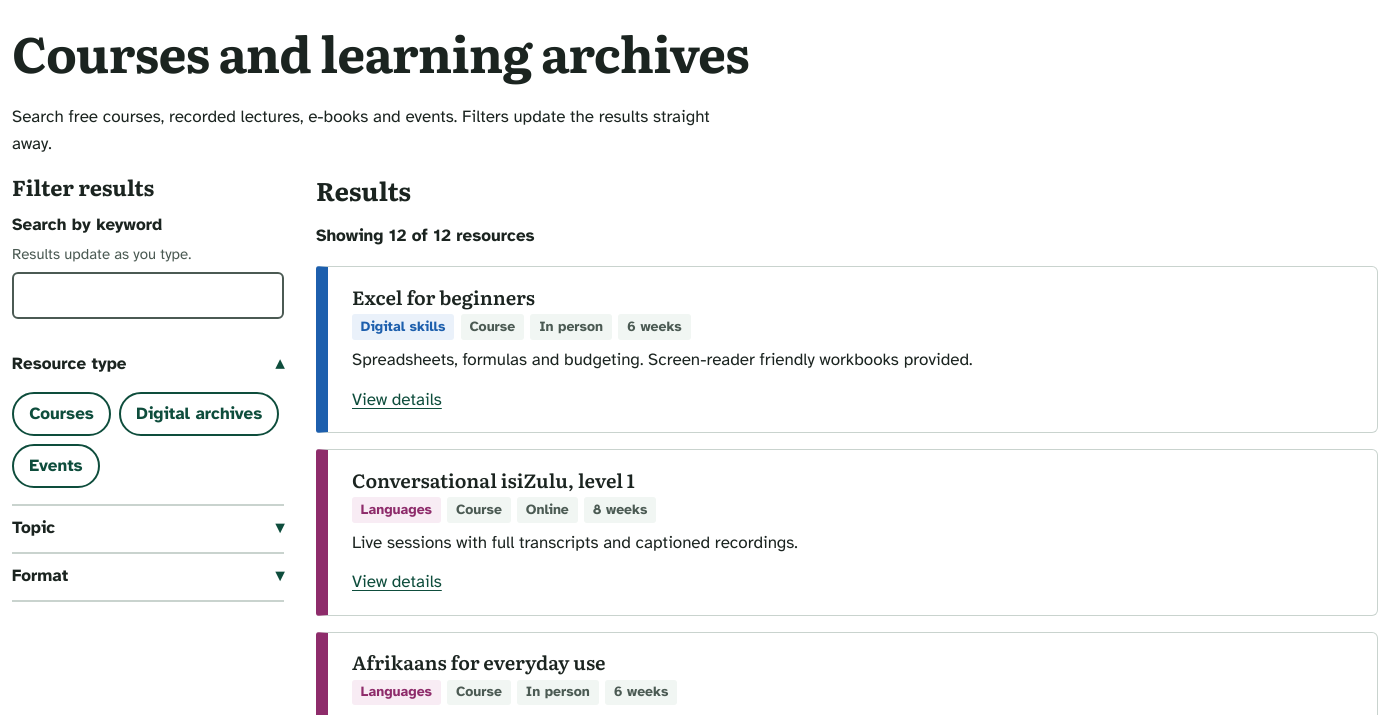
Test: <Catalogue> ARIA state management › accordion header toggles aria-expanded and hides/shows its panel
Click the button "Topic": point(34, 528) [12, 506, 284, 552]
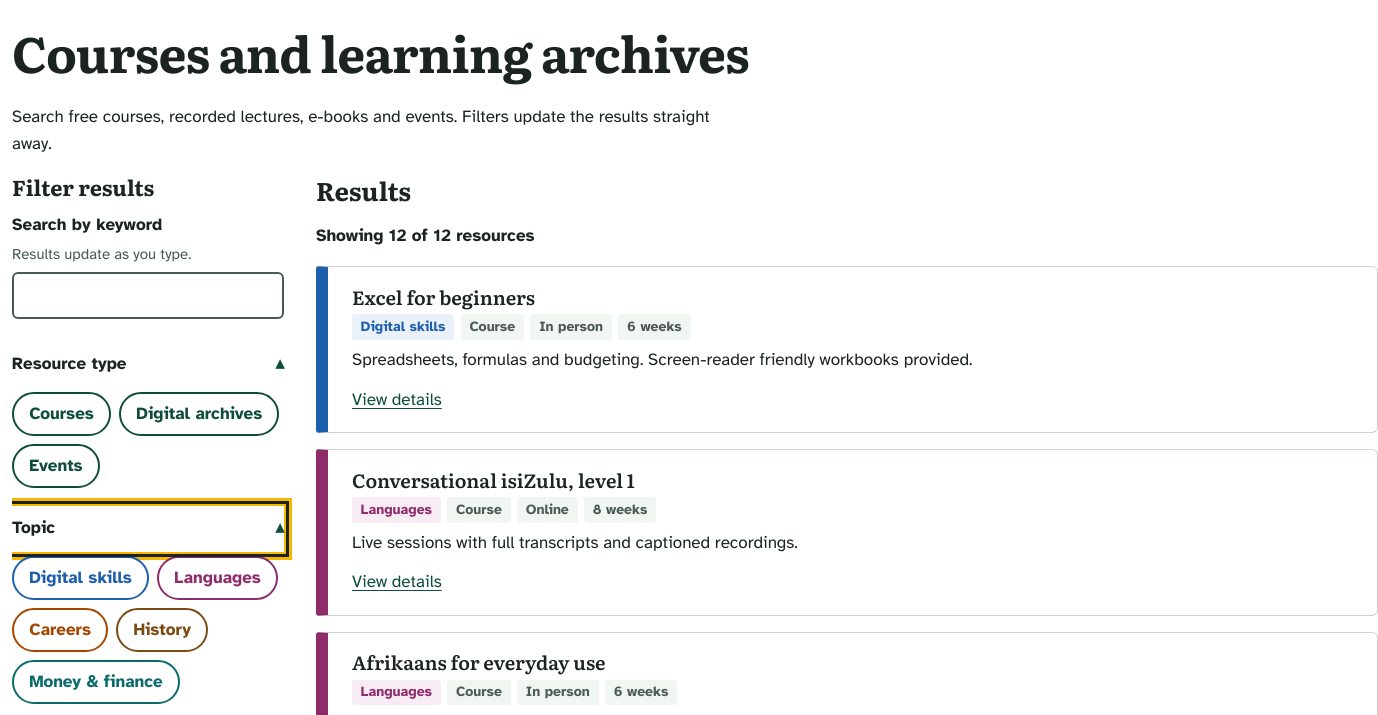
Now the button "Topic" is expanded, box [12, 506, 284, 552]
Press Enter
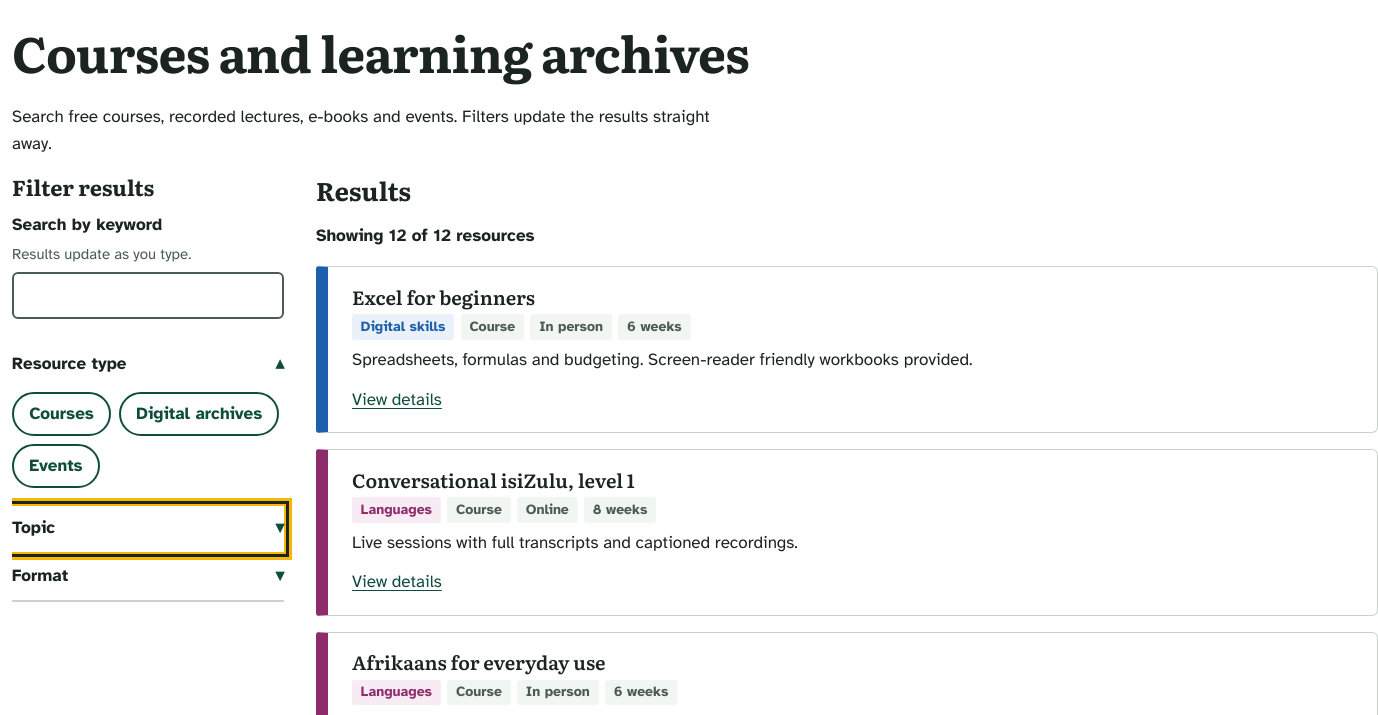
Now the button "Topic" is collapsed, box [12, 506, 284, 552]
Type keys " "
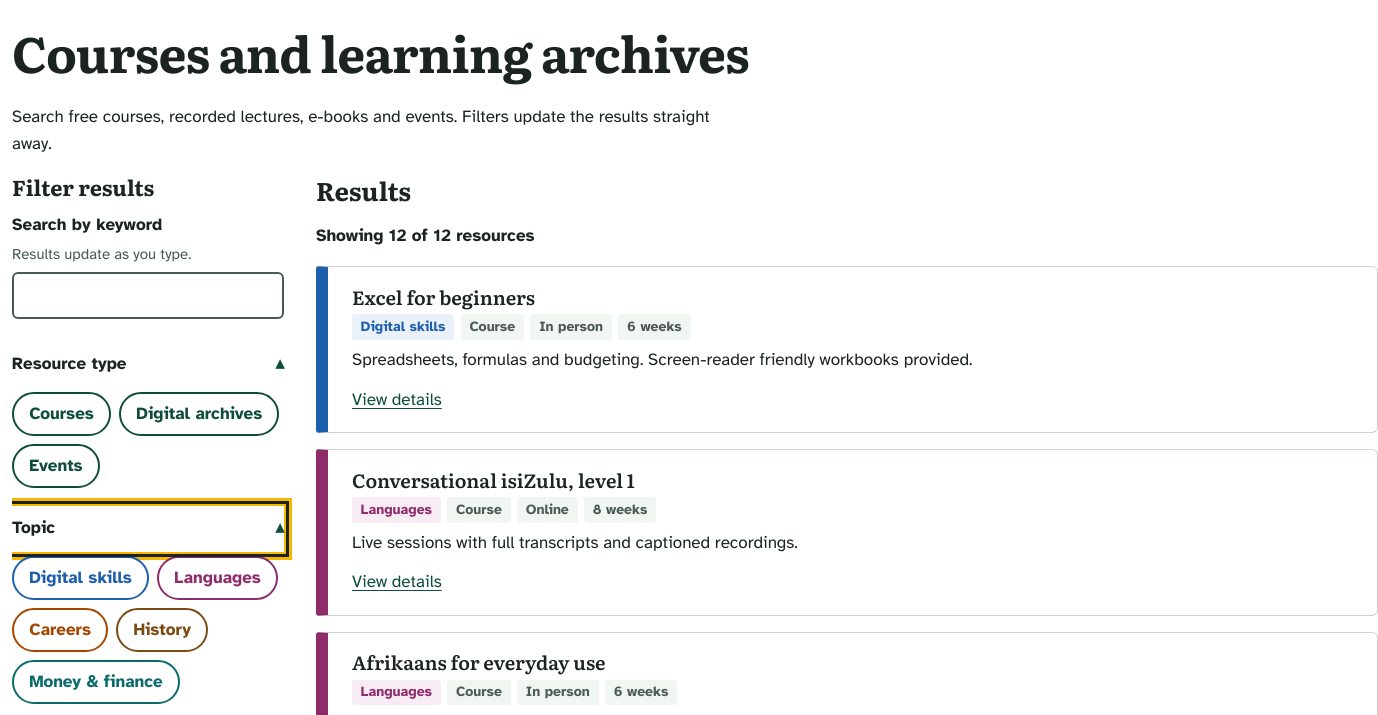
Now the button "Topic" is expanded, box [12, 506, 284, 552]
